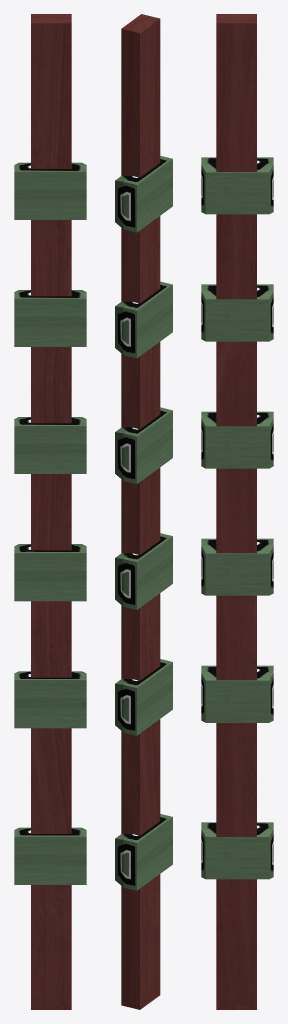
The model's file is SM_SJJ_HG_Soro02A.fbx.
The picture shows the model from 3 angles, left to right: view 1: azimuth 90°, elevation 25°; view 2: azimuth 150°, elevation 25°; view 3: azimuth 270°, elevation 25°; orthographic projection.
Parts seen in each view (by area): view 1: SM_SJJ_HG_Soro02A_LOD0; view 2: SM_SJJ_HG_Soro02A_LOD0; view 3: SM_SJJ_HG_Soro02A_LOD0.
Boxes of the visible parts, box(x1,y1,x2,y2) form: SM_SJJ_HG_Soro02A_LOD0: box(14, 14, 86, 1009); SM_SJJ_HG_Soro02A_LOD0: box(115, 14, 172, 1009); SM_SJJ_HG_Soro02A_LOD0: box(201, 14, 273, 1009).
Bounding box in the file's own units: 8.3 × 21.44 × 322.
Materials: 1 (1 with a texture image).
